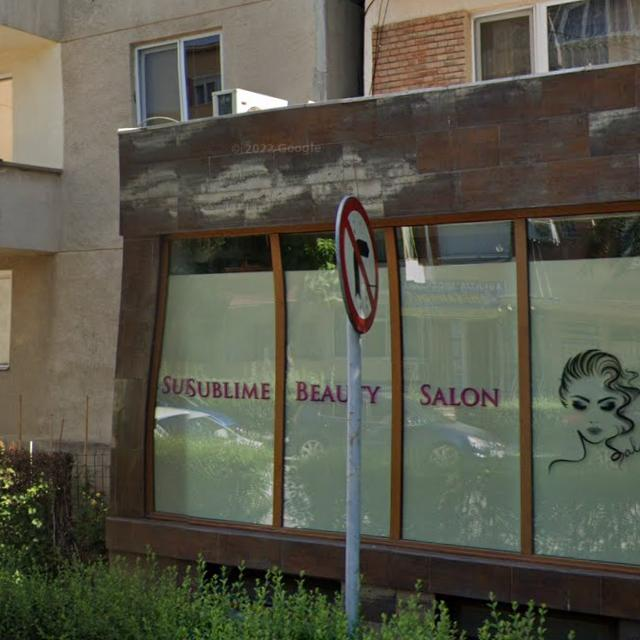forb_right: (335, 194, 379, 334)
